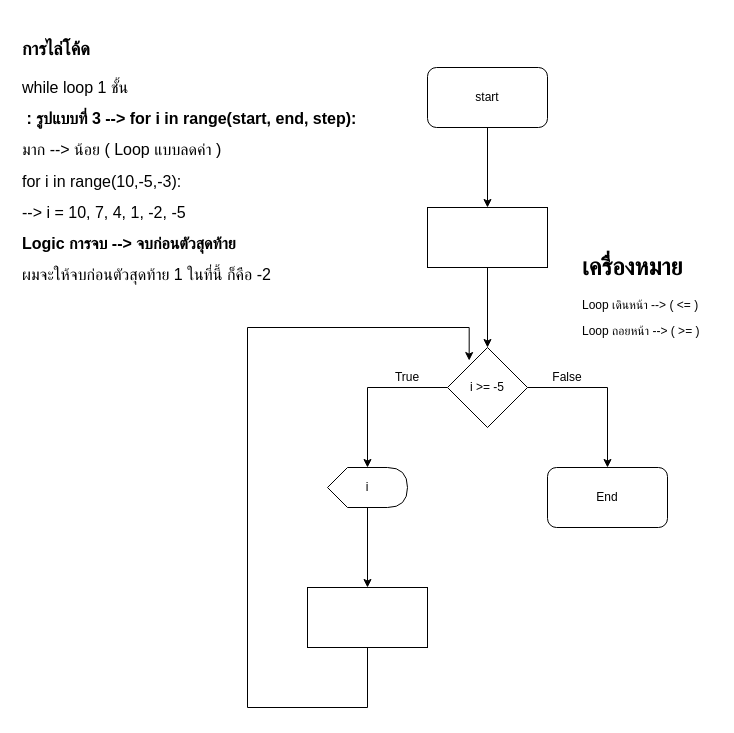
Image size: 734x733. Some labels were removed from this diagram. The box of each missing label's shape, as (x1, y1, x2, y2) in pixels:
i -= 3: (306, 586, 428, 648)
i = 10: (426, 206, 548, 268)
